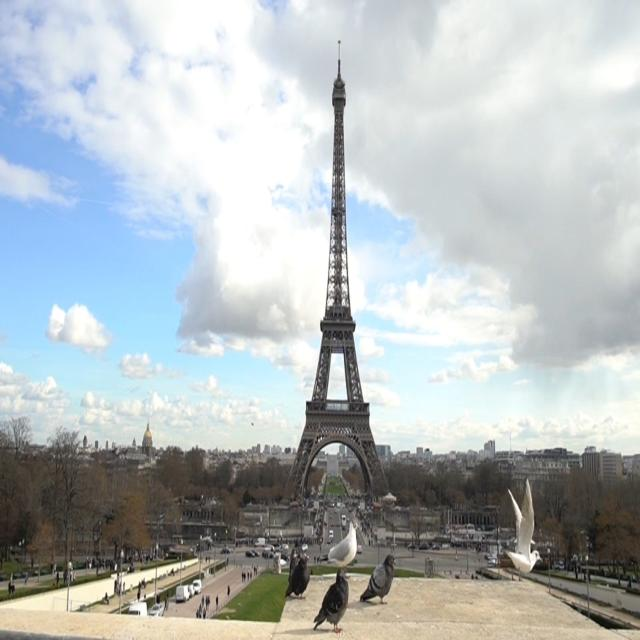bird: (494, 470, 551, 607), (355, 541, 404, 626), (316, 513, 363, 589), (310, 563, 356, 633), (278, 541, 314, 613)
